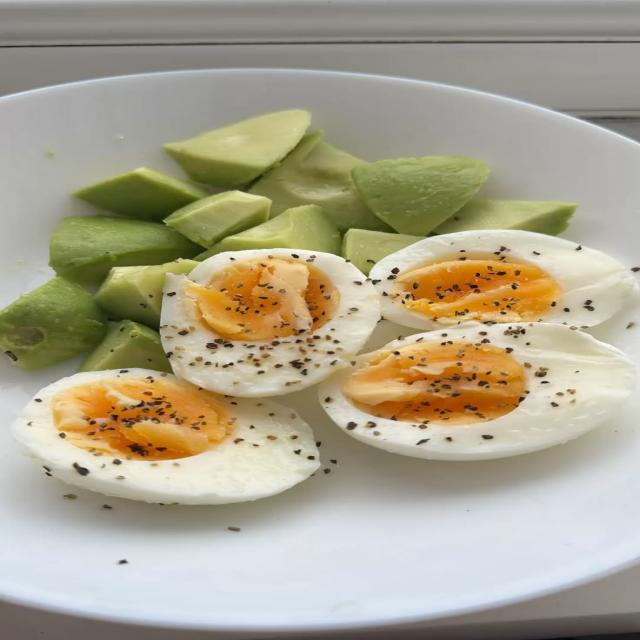avocado: (250, 130, 390, 233), (163, 110, 310, 189), (351, 156, 488, 235), (50, 216, 202, 287), (0, 277, 104, 370), (197, 205, 340, 260), (74, 167, 208, 222), (95, 259, 198, 329), (165, 191, 270, 250), (432, 199, 577, 235), (78, 320, 171, 372), (342, 228, 423, 274)
egg boiled: (320, 323, 633, 460), (14, 369, 319, 504), (160, 249, 379, 397), (370, 230, 637, 329)
